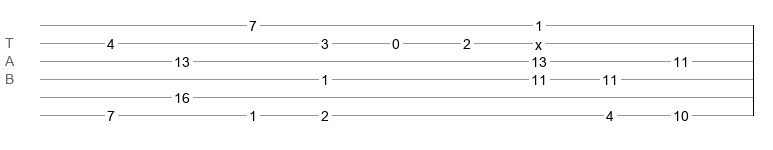0: (392, 36, 400, 46)
1: (249, 108, 257, 118), (321, 72, 329, 82), (535, 18, 543, 28)
10: (673, 108, 689, 118)
11: (531, 72, 547, 82), (602, 72, 618, 82), (673, 54, 689, 64)
13: (174, 54, 190, 64), (531, 54, 547, 64)
16: (174, 90, 190, 100)
2: (321, 108, 329, 118), (463, 36, 471, 46)
3: (321, 36, 329, 46)
4: (107, 36, 115, 46), (606, 108, 614, 118)
7: (107, 108, 115, 118), (249, 18, 257, 28)
x: (535, 37, 542, 45)
